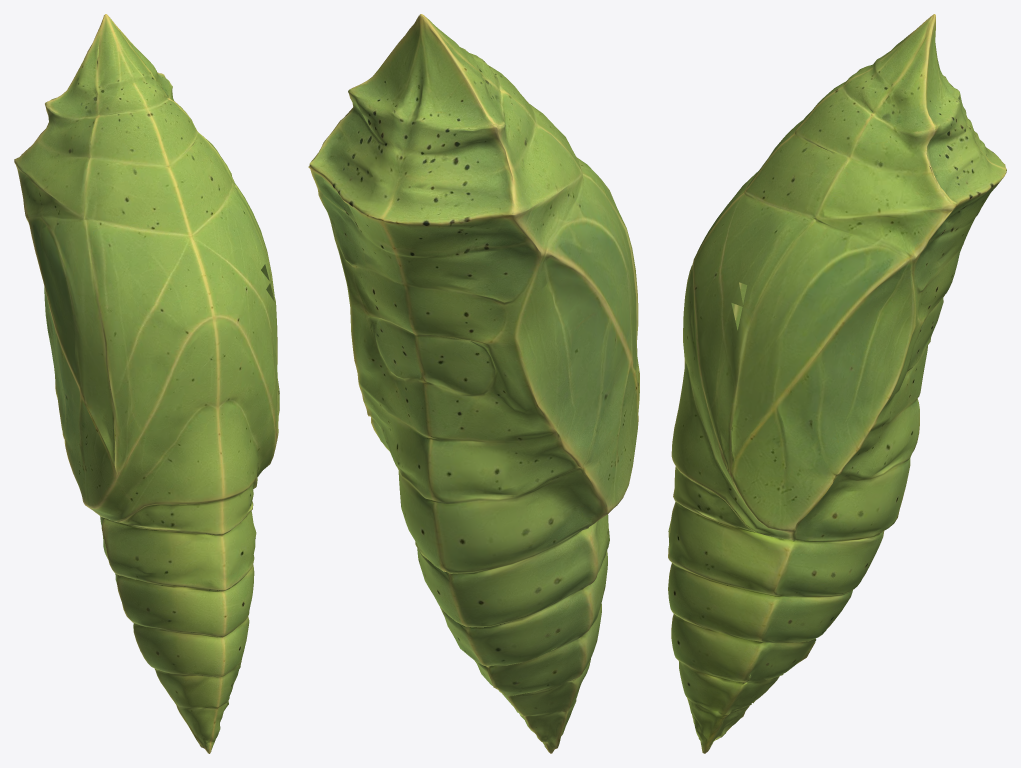
The model's file is butterfly-pupa.glb.
3 renders of one model, left to right at view 1: azimuth 30°, elevation 25°; view 2: azimuth 150°, elevation 25°; view 3: azimuth 270°, elevation 25°, orthographic. The views are drawn at different scales.
Bounding box in the file's own units: 0.3022 × 0.9497 × 0.3945.
Materials: 1 (1 with a texture image).
